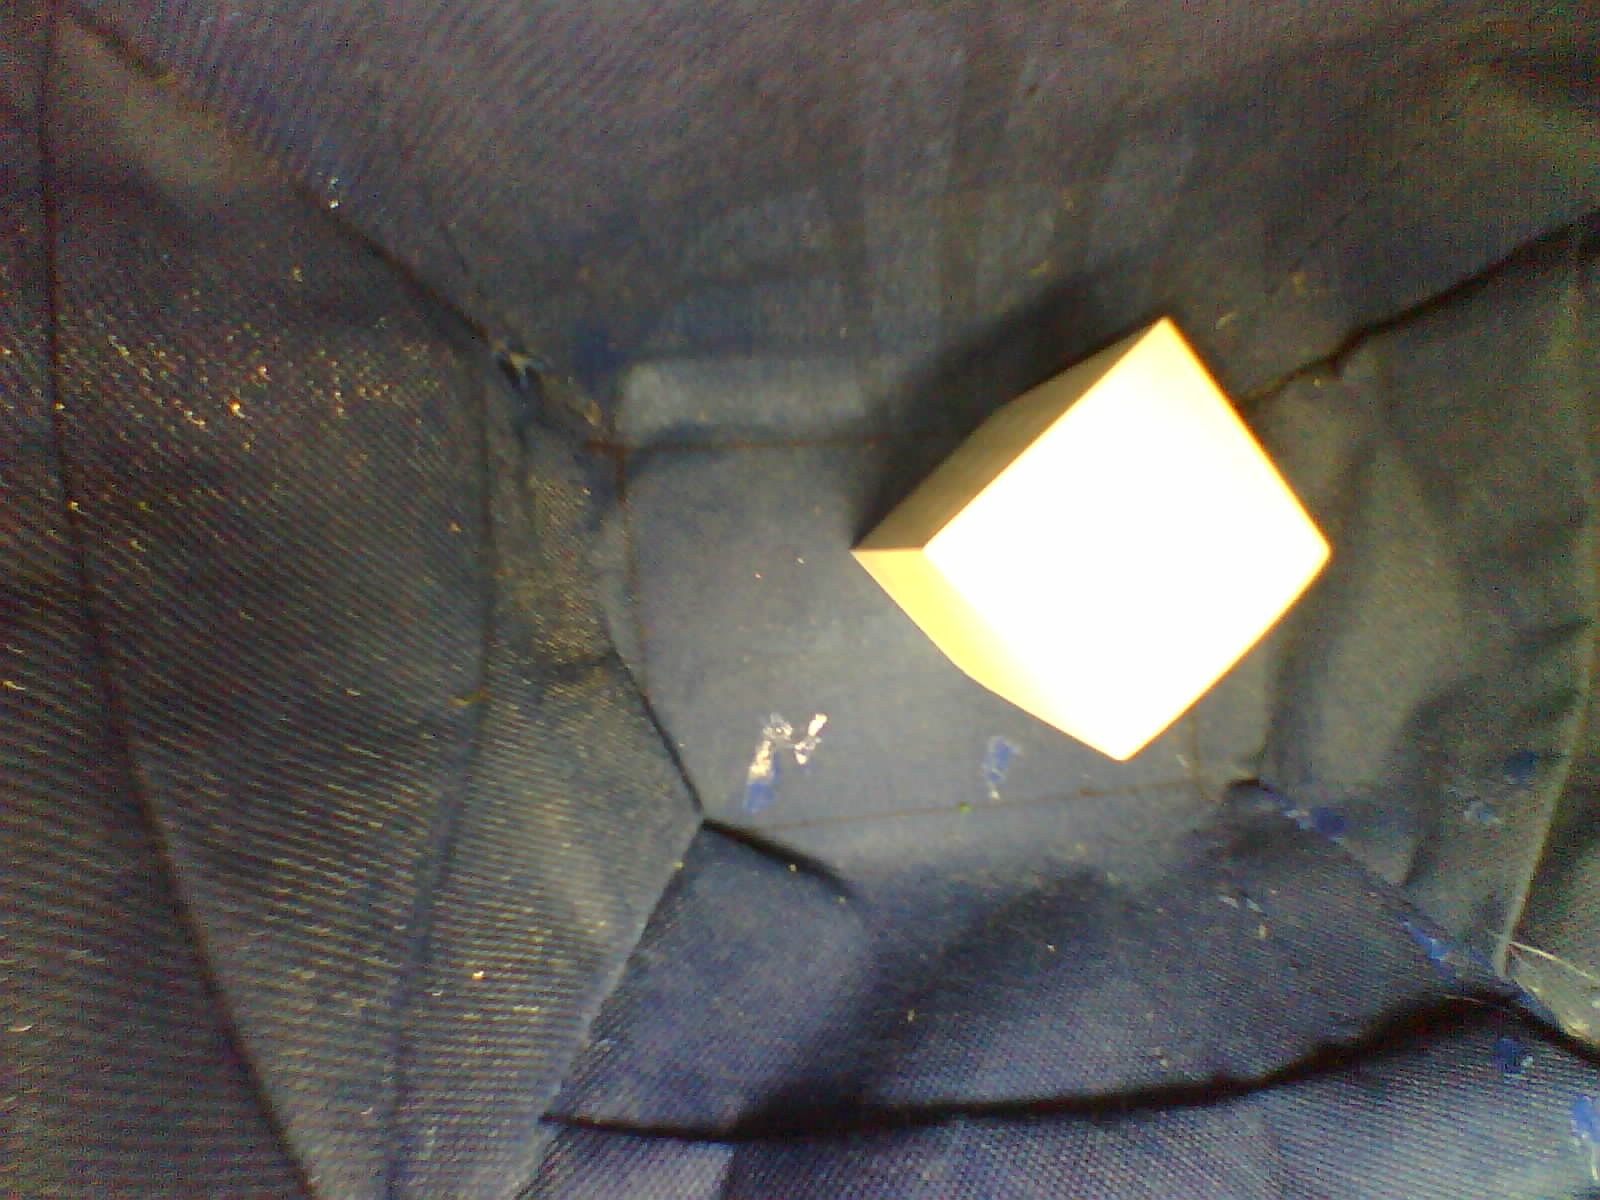cube-hard: (823, 304, 1346, 776)
